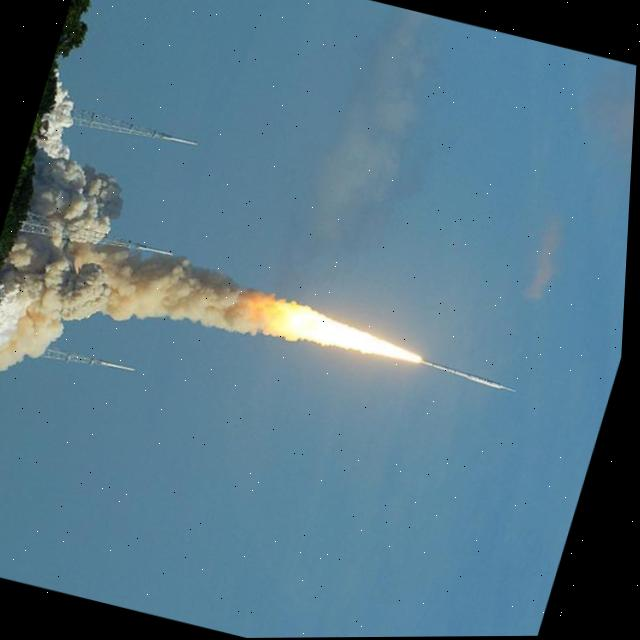missile: (407, 348, 529, 409)
